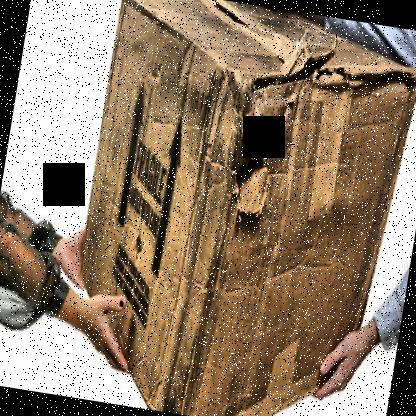defect parcel: (132, 1, 416, 294)
